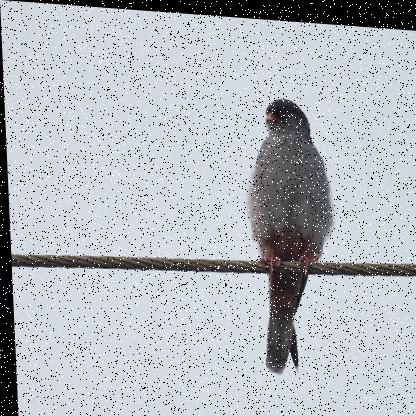Burung: (241, 90, 336, 373)
